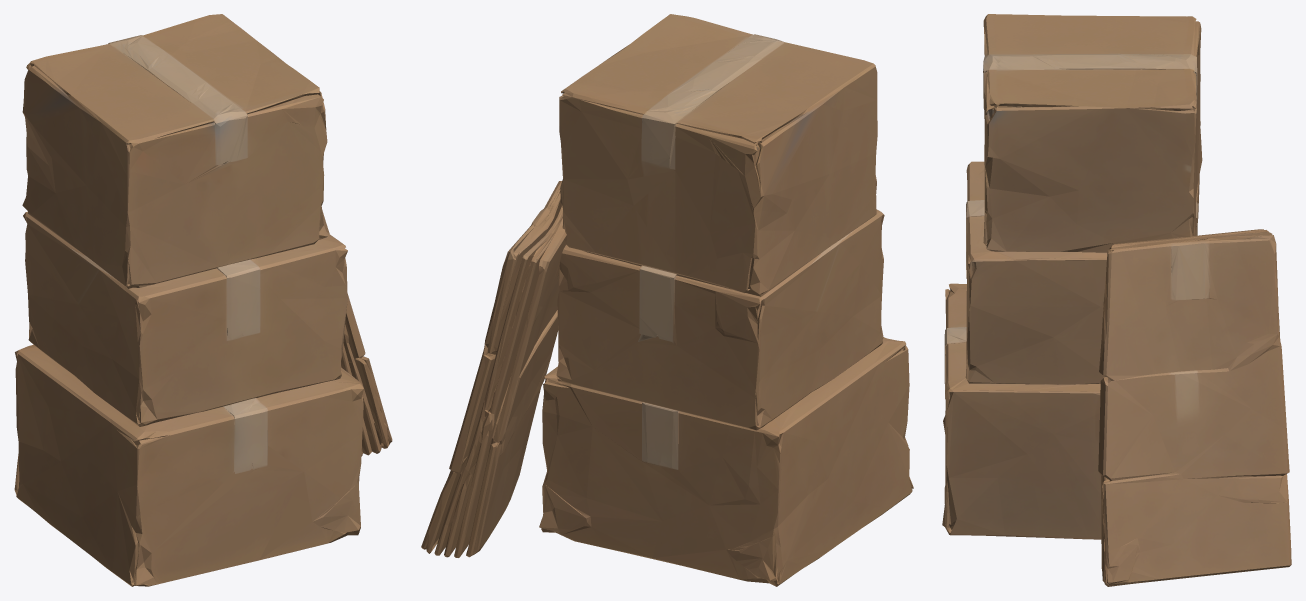
The model's file is cardboard_boxes.glb.
The picture shows the model from 3 angles, left to right: view 1: azimuth 30°, elevation 25°; view 2: azimuth 150°, elevation 25°; view 3: azimuth 270°, elevation 25°; orthographic projection. The views are drawn at different scales.
Visible parts, largest first — view 1: cardboard_boxes; view 2: cardboard_boxes; view 3: cardboard_boxes.
Boxes of the visible parts, left/top/right/bottom form: cardboard_boxes: left=14, top=14, right=392, bottom=586; cardboard_boxes: left=421, top=14, right=913, bottom=586; cardboard_boxes: left=942, top=14, right=1291, bottom=586.
Size of the model in its own units: 0.6582 by 0.8 by 0.5943.
1 material, 1 textured.
